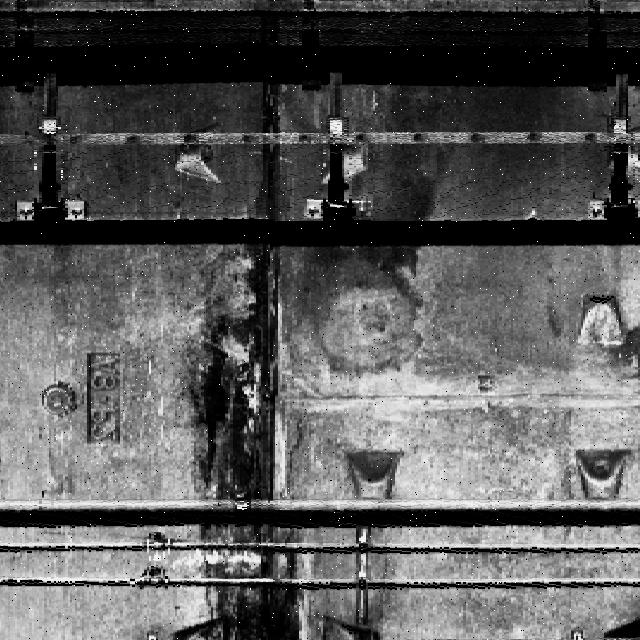leakage: (190, 91, 314, 640)
